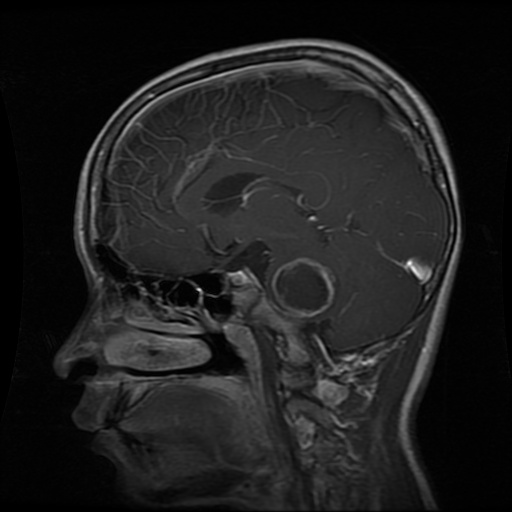glioma: (270, 257, 334, 313)
